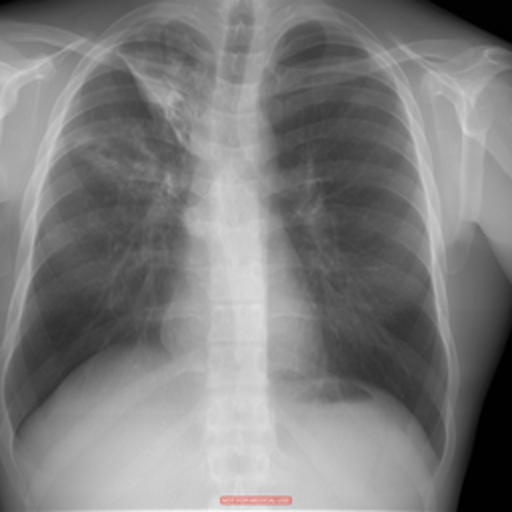TB: (108, 46, 192, 207)
